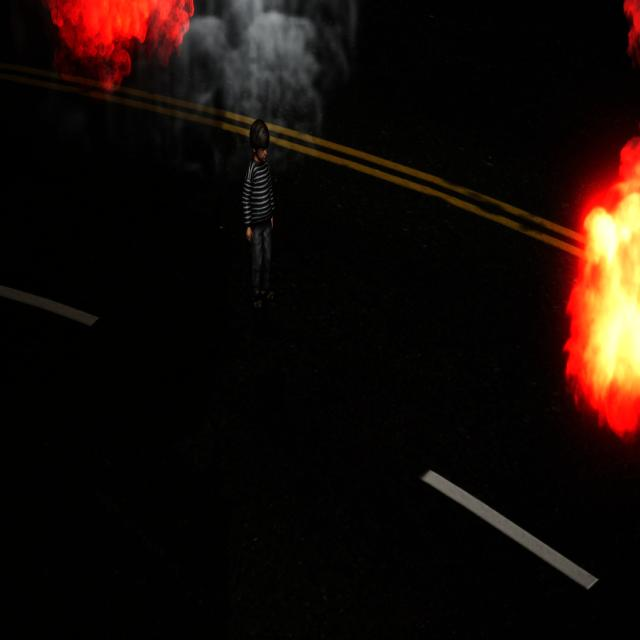Human: (237, 114, 281, 320)
